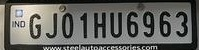character: (108, 10, 123, 38), (92, 10, 106, 38), (28, 12, 42, 39), (174, 10, 188, 37), (44, 12, 58, 38), (61, 12, 75, 38), (126, 10, 139, 37), (158, 9, 170, 37), (142, 10, 154, 37), (79, 10, 88, 39)
